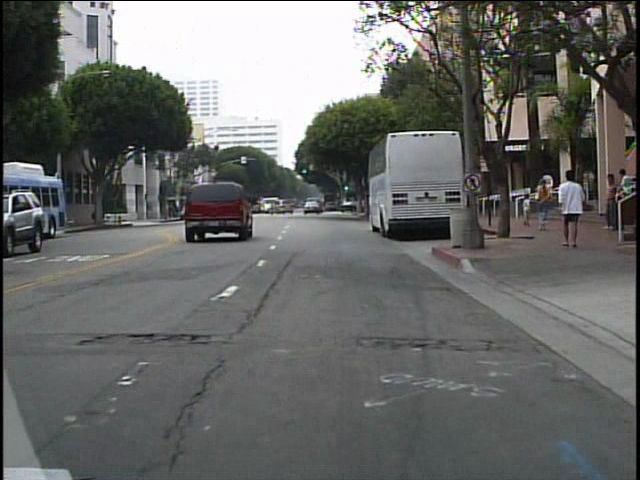person: (557, 170, 589, 249), (534, 177, 553, 236), (600, 171, 617, 235), (519, 192, 535, 229), (616, 166, 634, 192)
